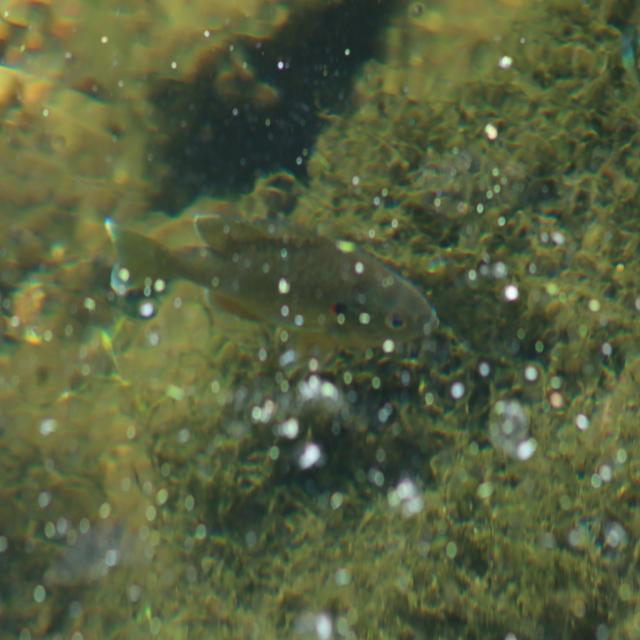Gunes Levregi: (102, 209, 440, 358)
